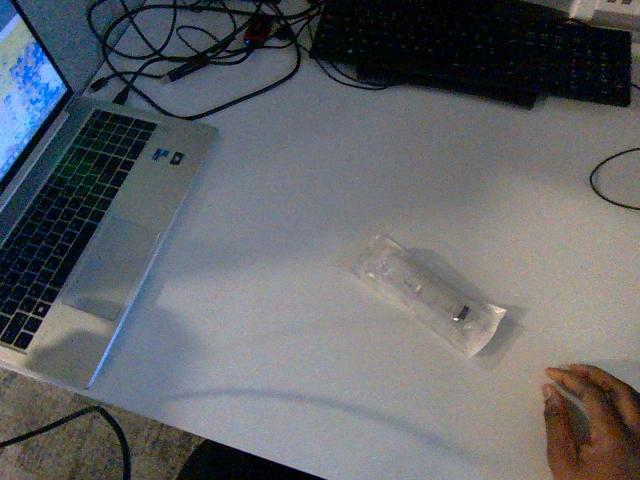syringe: (352, 234, 505, 356)
